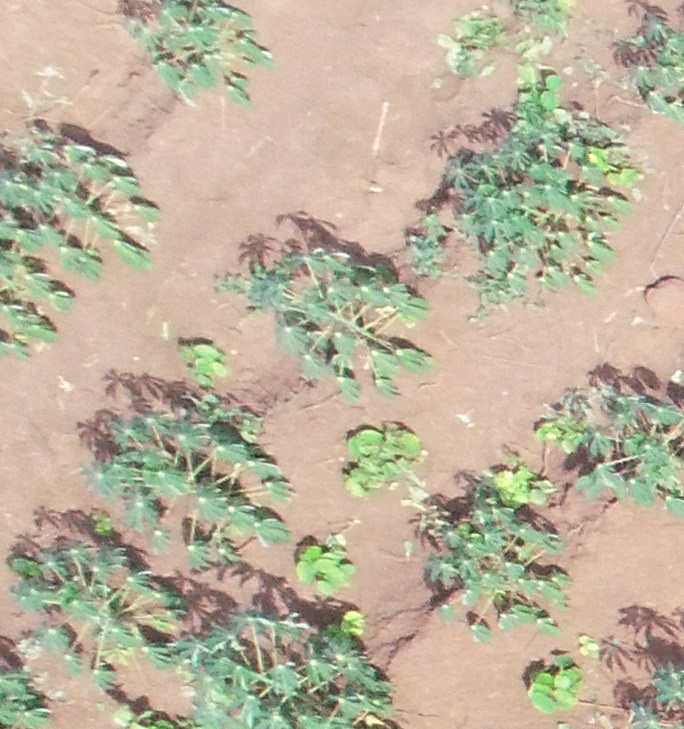stand: (432, 104, 629, 304), (7, 117, 162, 352), (234, 227, 424, 386), (7, 534, 185, 685), (426, 476, 573, 638), (192, 609, 388, 729), (540, 365, 684, 508), (121, 2, 277, 107)
